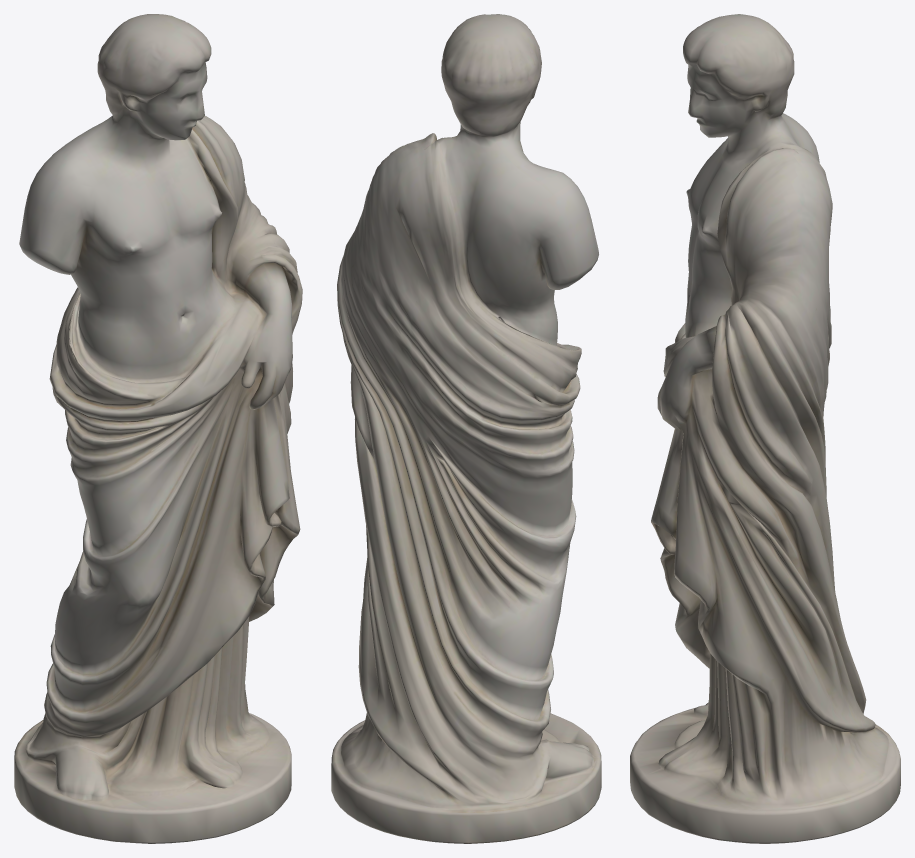
The model's file is a_marble_statue_7696eaf1_v1.glb.
3 renders of one model, left to right at view 1: azimuth 30°, elevation 25°; view 2: azimuth 150°, elevation 25°; view 3: azimuth 270°, elevation 25°, orthographic. The views are drawn at different scales.
Parts seen in each view (by area): view 1: material; view 2: material; view 3: material.
Boxes of the visible parts, x1,y1,x2,y2 form: material: [14, 14, 302, 843]; material: [331, 14, 601, 843]; material: [630, 14, 900, 843].
Bounding box in the file's own units: 0.658 × 1.9 × 0.6112.
Materials: 1 (1 with a texture image).
